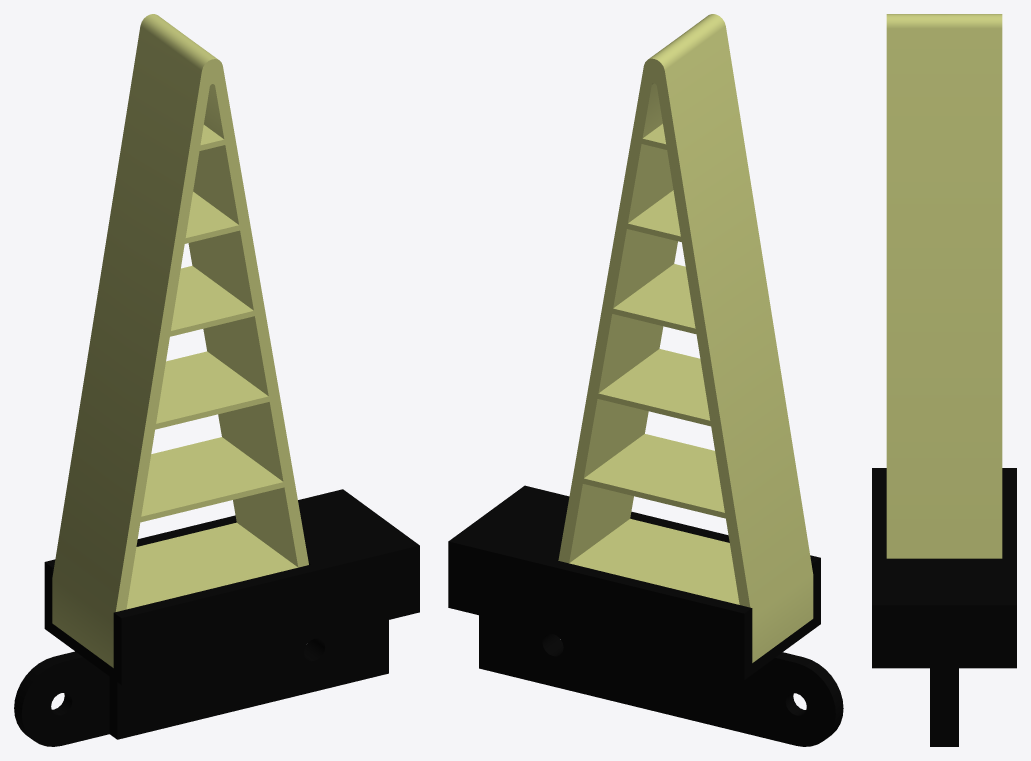
The model's file is YoubotGripper_SoftFinger.dae.
3 renders of one model, left to right at view 1: azimuth 30°, elevation 25°; view 2: azimuth 150°, elevation 25°; view 3: azimuth 270°, elevation 25°, orthographic. The views are drawn at different scales.
Parts seen in each view (by area): view 1: YoubotGreifer_002; view 2: YoubotGreifer_002; view 3: YoubotGreifer_002.
Part boxes in pixels (x1,y1,x2,y2): YoubotGreifer_002: (14, 14, 419, 746); YoubotGreifer_002: (448, 14, 843, 746); YoubotGreifer_002: (872, 14, 1016, 746).
Bounding box in the file's own units: 0.0675 × 0.025 × 0.1219.
